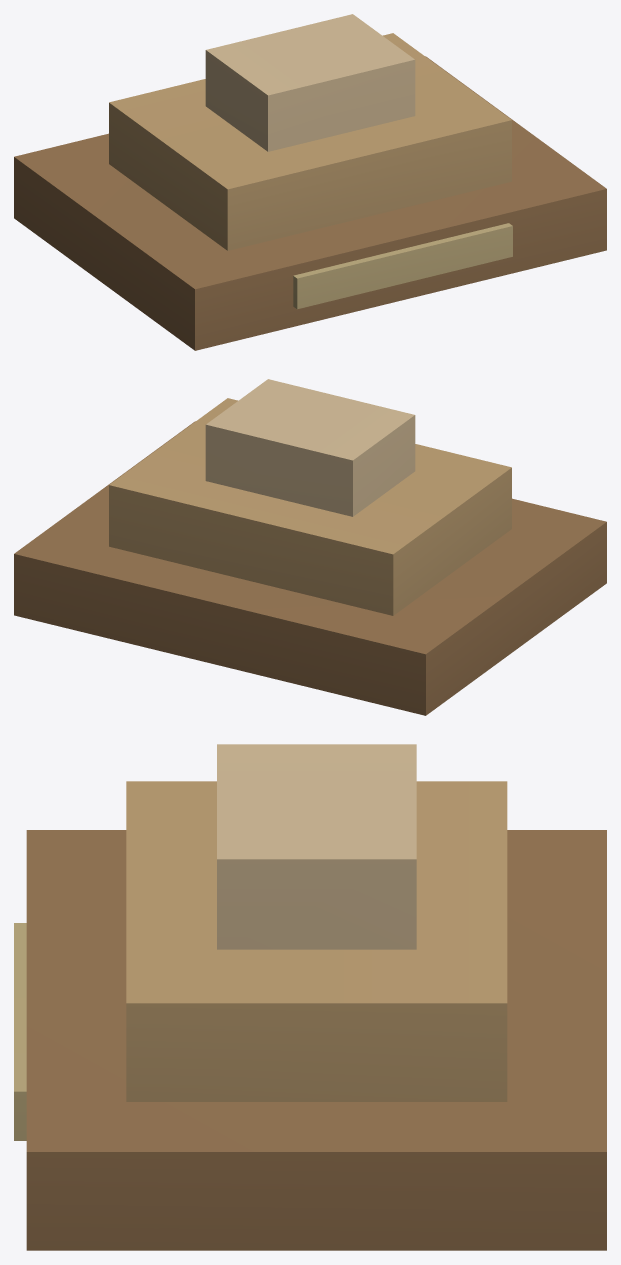
File: moche_altar_lod0.glb
3 views of the same model, one above another, from view 1: azimuth 30°, elevation 25°; view 2: azimuth 150°, elevation 25°; view 3: azimuth 270°, elevation 25° (orthographic). The views are drawn at different scales.
Parts seen in each view (by area): view 1: GEO-Arch_moche_altar_LOD0; view 2: GEO-Arch_moche_altar_LOD0; view 3: GEO-Arch_moche_altar_LOD0.
Boxes of the visible parts, box(x1,y1,x2,y2) form: GEO-Arch_moche_altar_LOD0: box(14, 14, 606, 350); GEO-Arch_moche_altar_LOD0: box(14, 379, 606, 715); GEO-Arch_moche_altar_LOD0: box(14, 744, 606, 1250).
Size of the model in its own units: 4.2 by 1.75 by 3.27.
